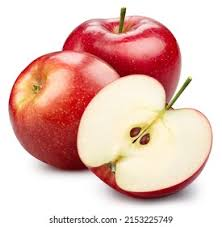apple: (74, 74, 213, 199)
